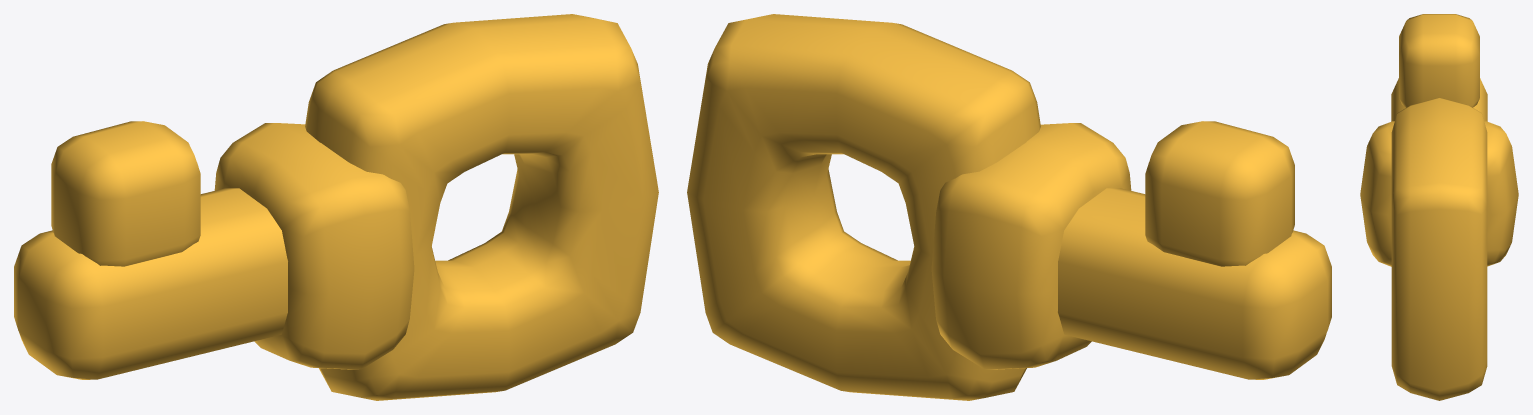
The model's file is key 1.fbx.
3 renders of one model, left to right at view 1: azimuth 30°, elevation 25°; view 2: azimuth 150°, elevation 25°; view 3: azimuth 270°, elevation 25°, orthographic. The views are drawn at different scales.
Visible parts, largest first — view 1: key_gold_LOD0.001; view 2: key_gold_LOD0.001; view 3: key_gold_LOD0.001.
Boxes of the visible parts, x1=… form: key_gold_LOD0.001: x1=14, y1=14, x2=658, y2=400; key_gold_LOD0.001: x1=687, y1=14, x2=1331, y2=400; key_gold_LOD0.001: x1=1360, y1=14, x2=1518, y2=400.
Bounding box in the file's own units: 1790 × 997 × 579.
